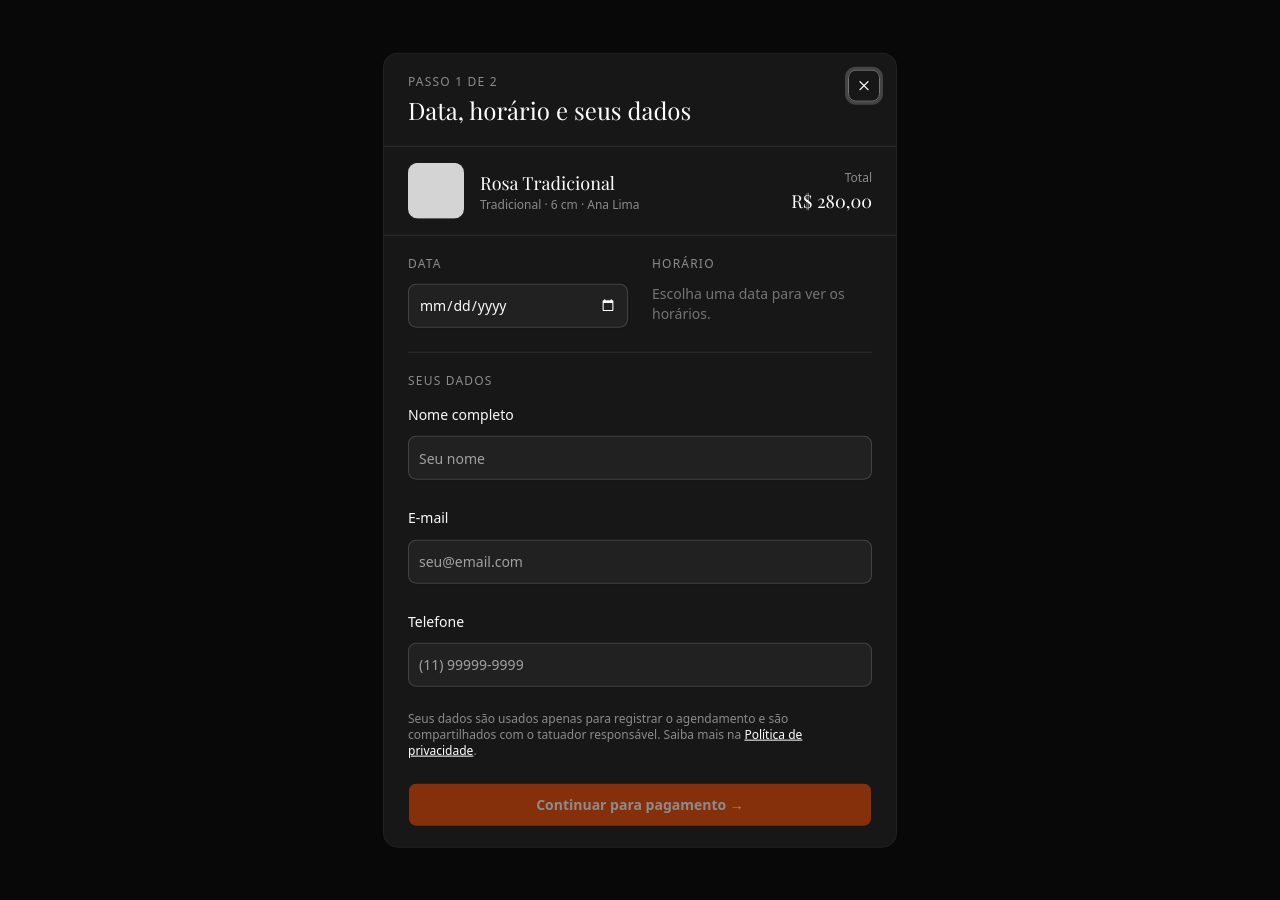
Test: BookingDialog › keeps the continue button disabled until the form is complete
Expected: the button "Continuar para pagamento →" is disabled, [408,782,872,826]
Type "2030-01-15" into the date field labelled "Data" at (518, 306), box [408,284,628,328]
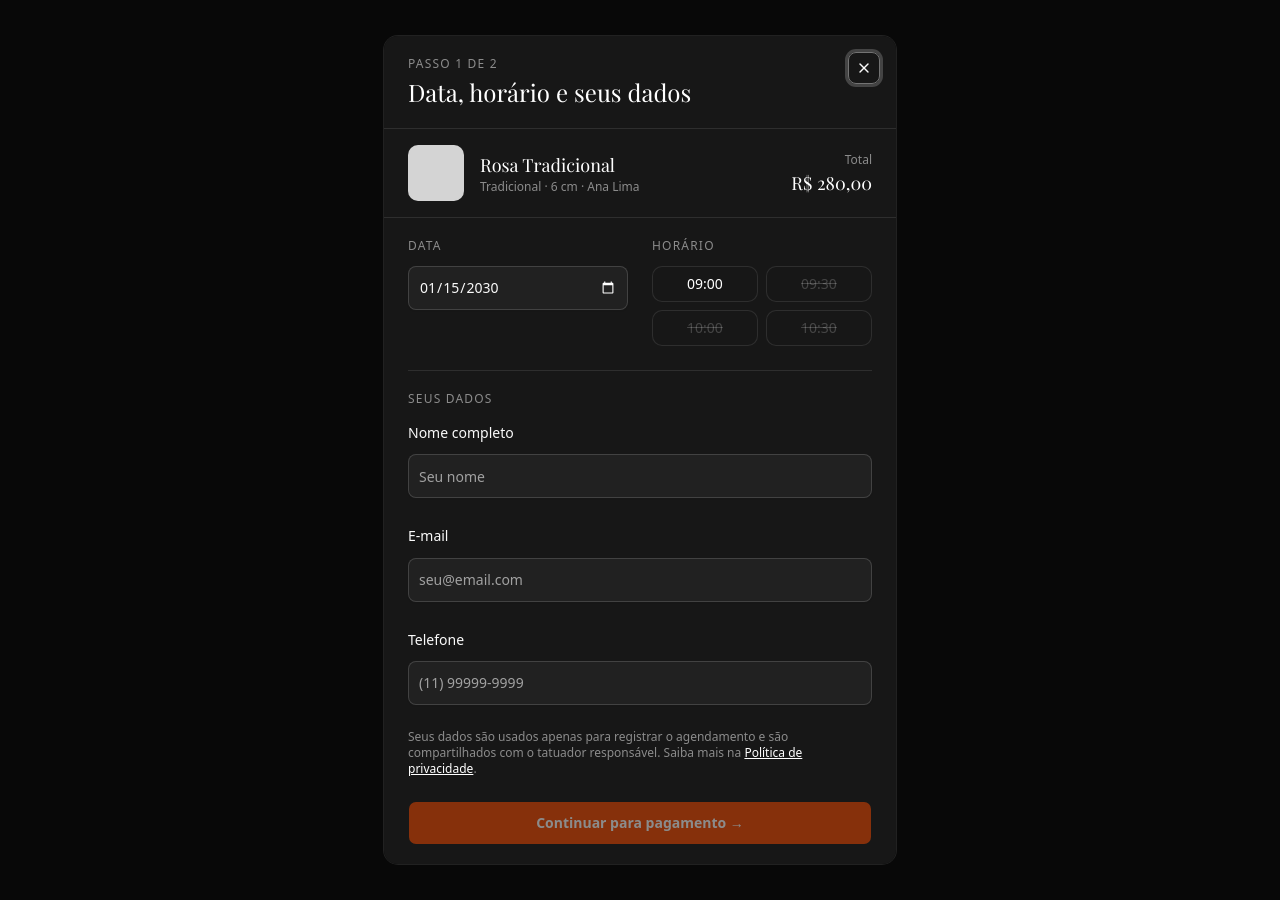
Click the button "09:00" at (705, 284), box [652,266,758,302]
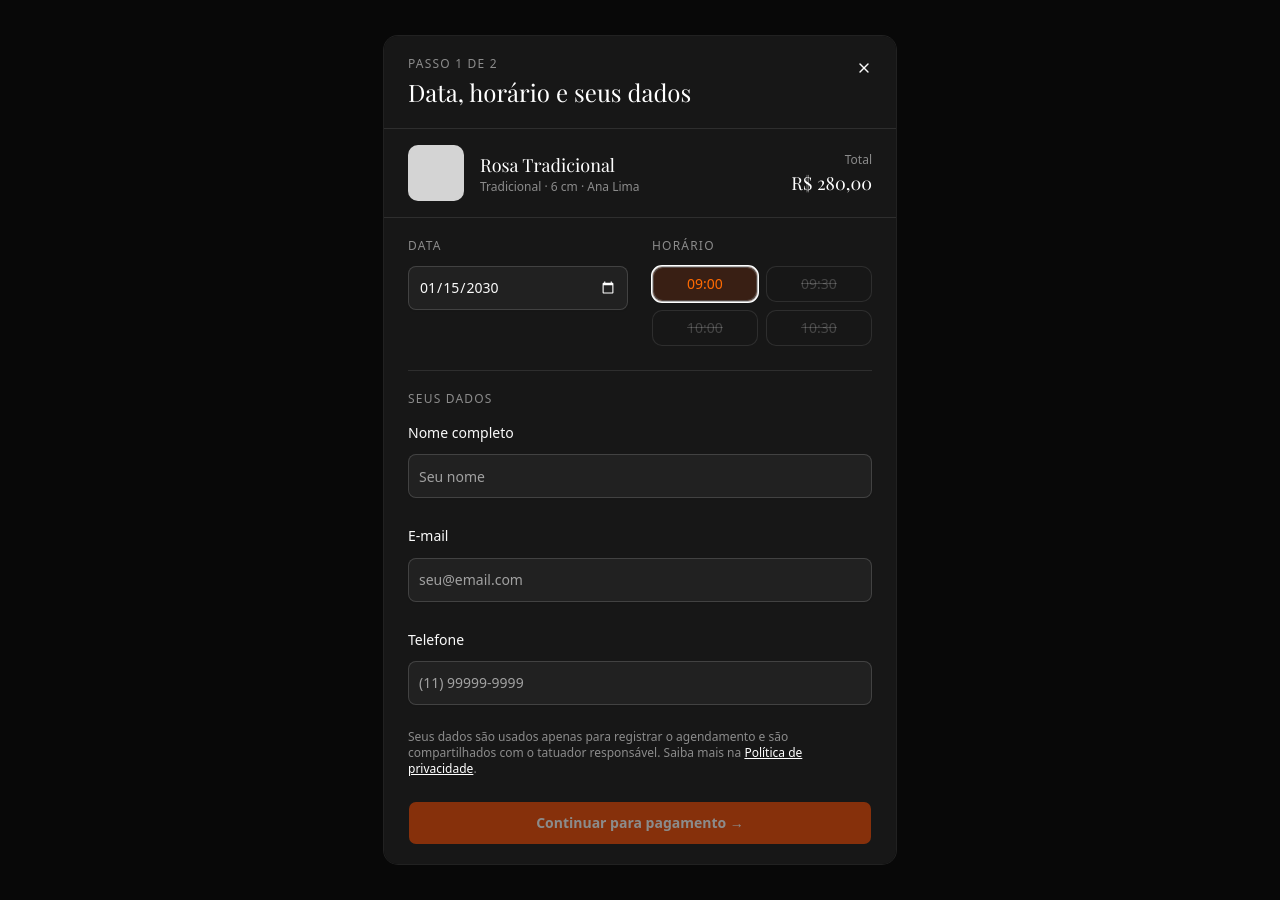
Type "Mariana Costa" into the field labelled "Nome completo" at (640, 476), box [408,454,872,498]
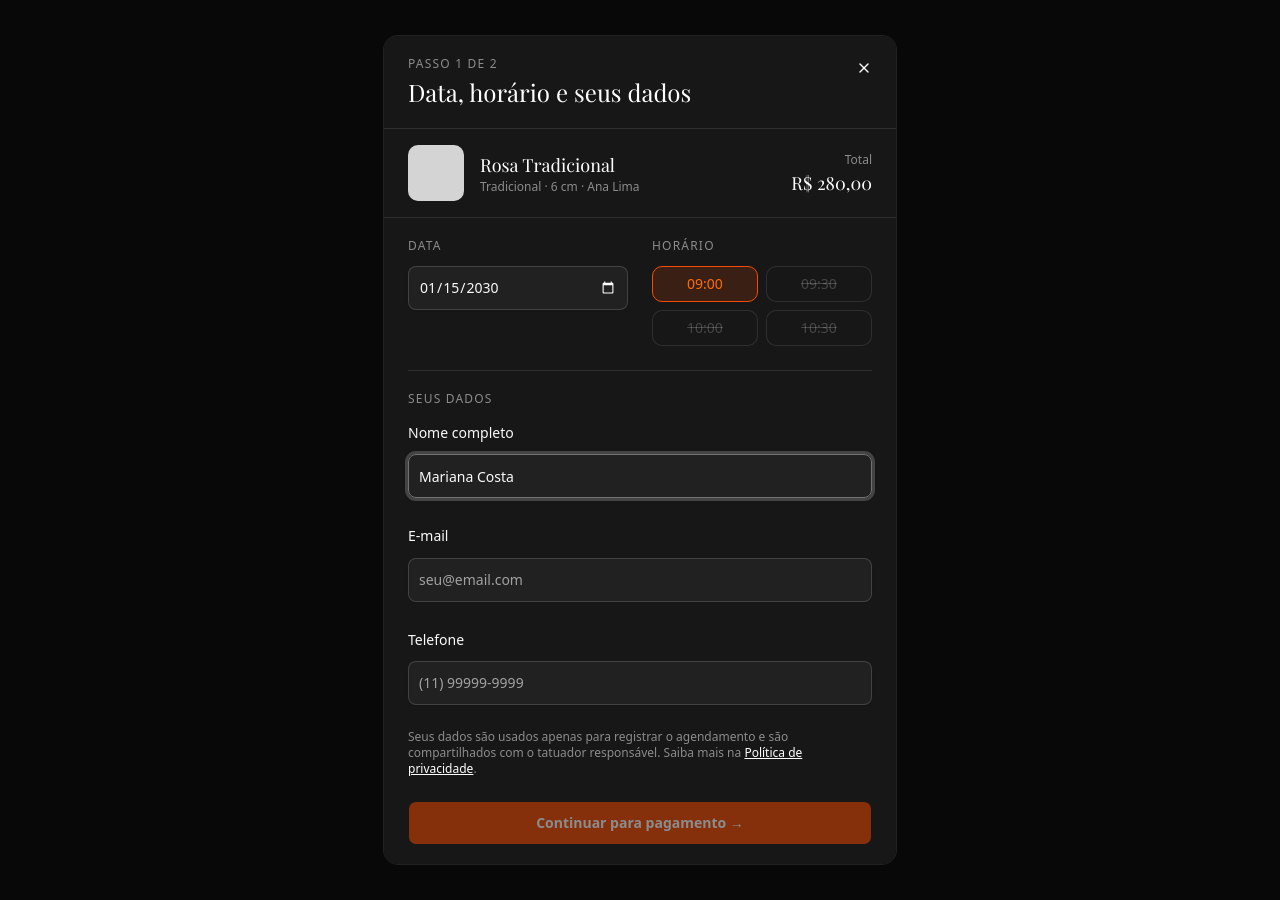
Type "mariana@email.com" into the field labelled "E-mail" at (640, 580), box [408,558,872,602]
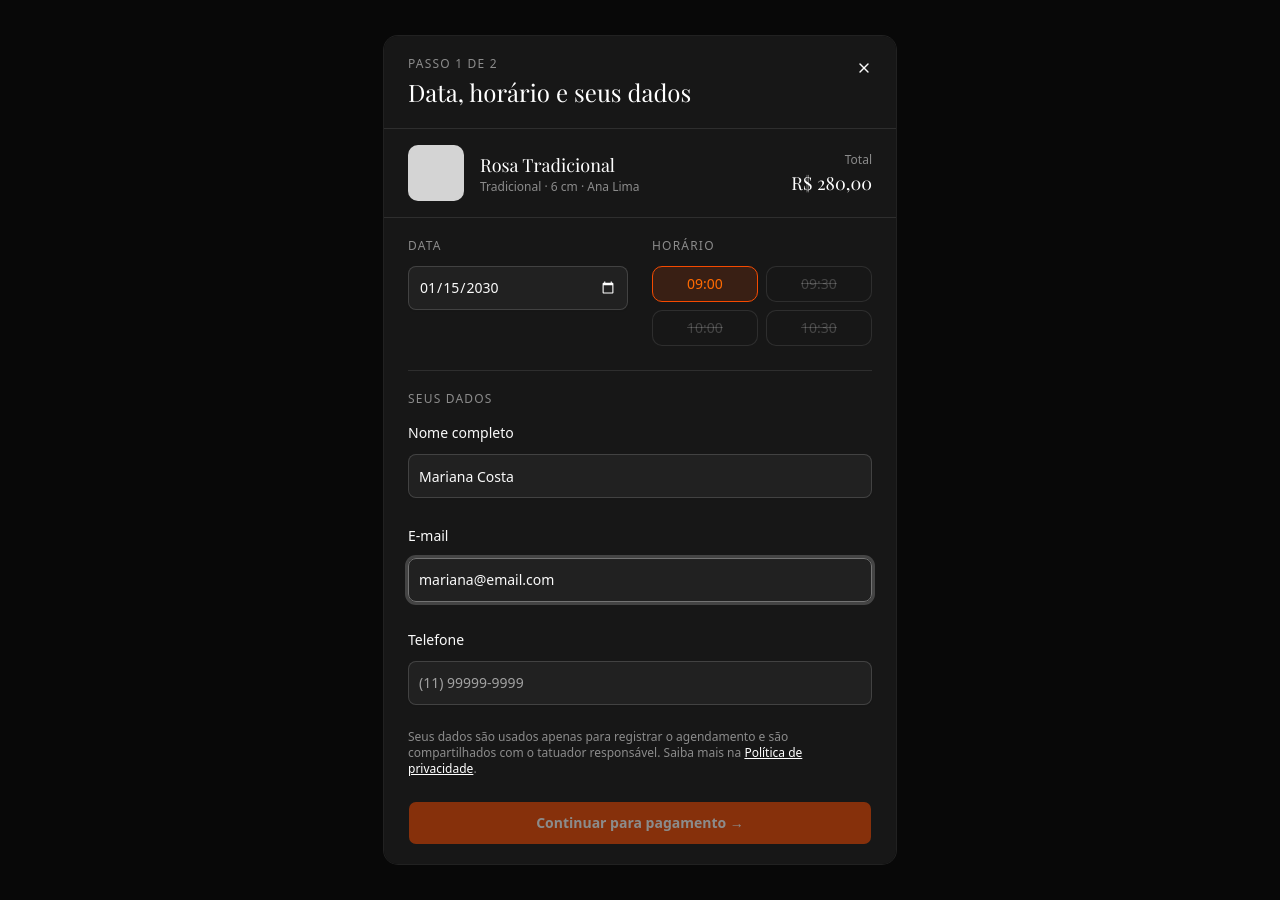
Type "11999999999" into the field labelled "Telefone" at (640, 683), box [408,661,872,705]
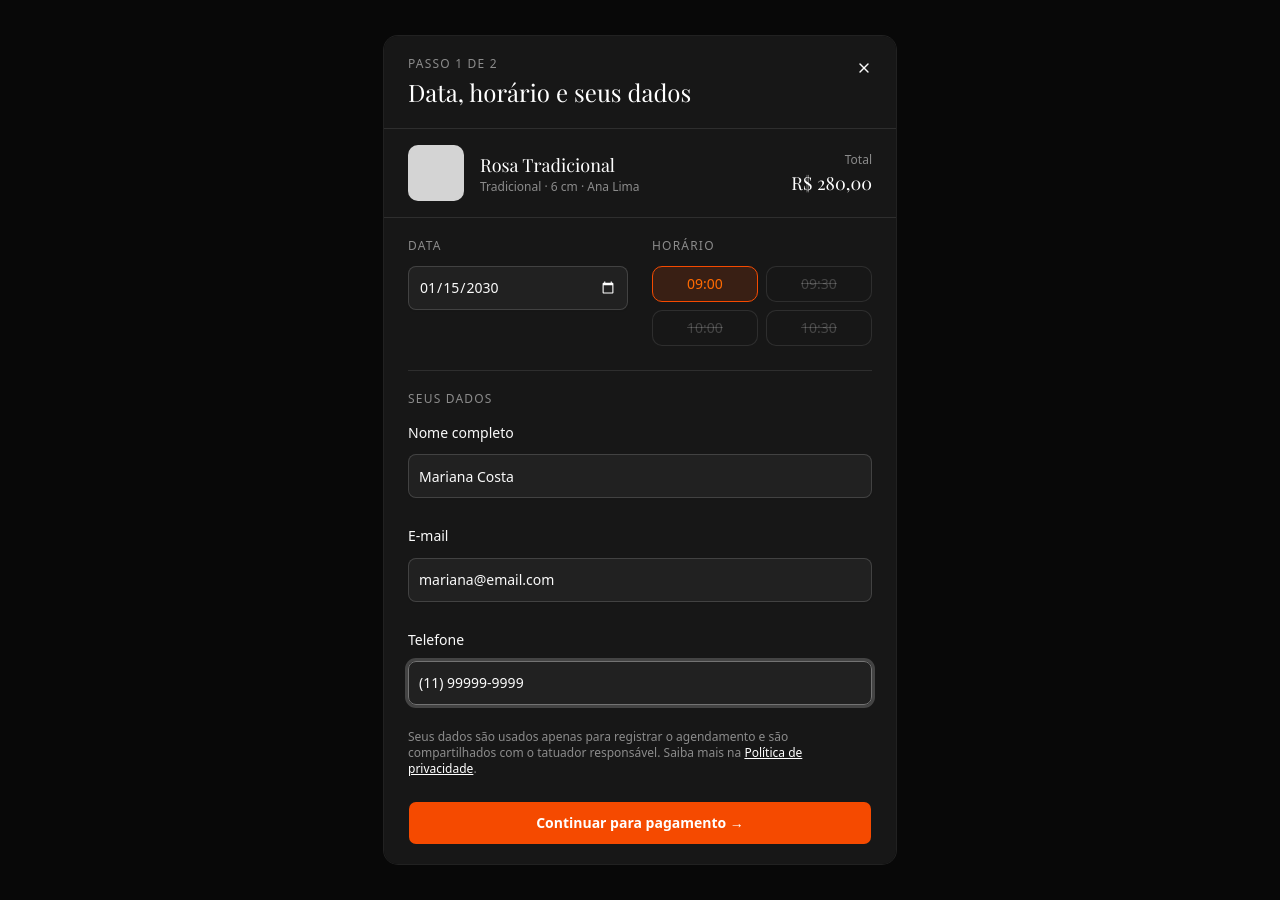
Result: the button "Continuar para pagamento →" is enabled at [408,801,872,845]
